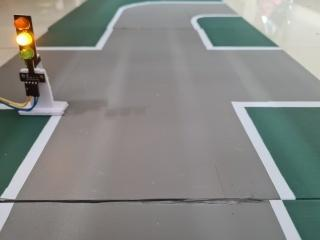yellow: (3, 6, 53, 71)
